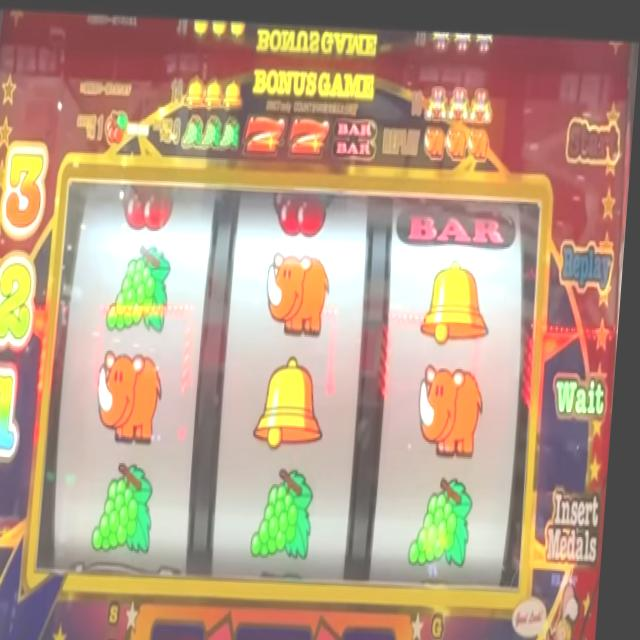bar: (397, 198, 521, 246), (334, 110, 381, 158)
bell: (258, 350, 335, 446), (425, 251, 498, 343)
cherry: (120, 179, 180, 230), (274, 183, 333, 233), (105, 107, 132, 148)
clown: (469, 82, 495, 121), (428, 78, 450, 118), (449, 80, 471, 116)
display: (42, 164, 552, 587)
elephant: (99, 347, 172, 444), (421, 357, 492, 452), (268, 246, 337, 335), (425, 118, 448, 155), (469, 122, 493, 155), (447, 121, 469, 156)
grape: (257, 463, 324, 563), (98, 456, 165, 554), (415, 471, 482, 565), (111, 239, 176, 335), (182, 110, 205, 147), (203, 111, 224, 148), (223, 112, 243, 147)
z: (246, 108, 289, 153), (290, 109, 331, 155)
